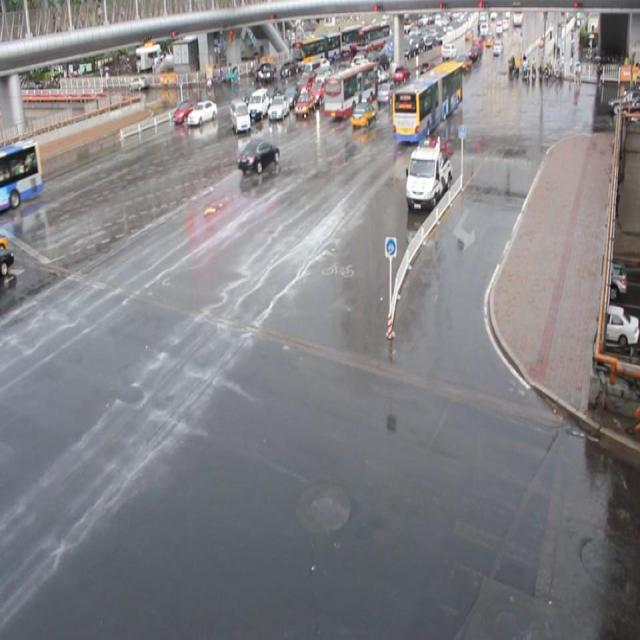bus: (403, 142, 450, 210)
car: (237, 136, 280, 173), (349, 99, 377, 127), (188, 99, 218, 125), (172, 98, 200, 124), (292, 91, 314, 118), (376, 81, 399, 105), (304, 80, 325, 106), (242, 82, 264, 106), (266, 96, 288, 119), (260, 84, 282, 107), (280, 82, 300, 106), (291, 76, 311, 97)
truck: (244, 88, 266, 120), (230, 98, 250, 132)
van: (391, 61, 463, 142), (322, 61, 378, 118), (1, 141, 43, 215)
